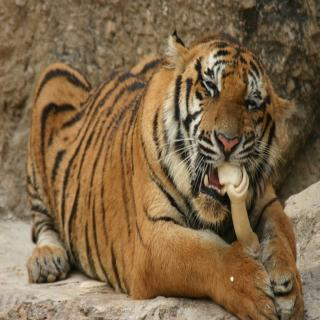Tiger: (27, 31, 297, 316)
